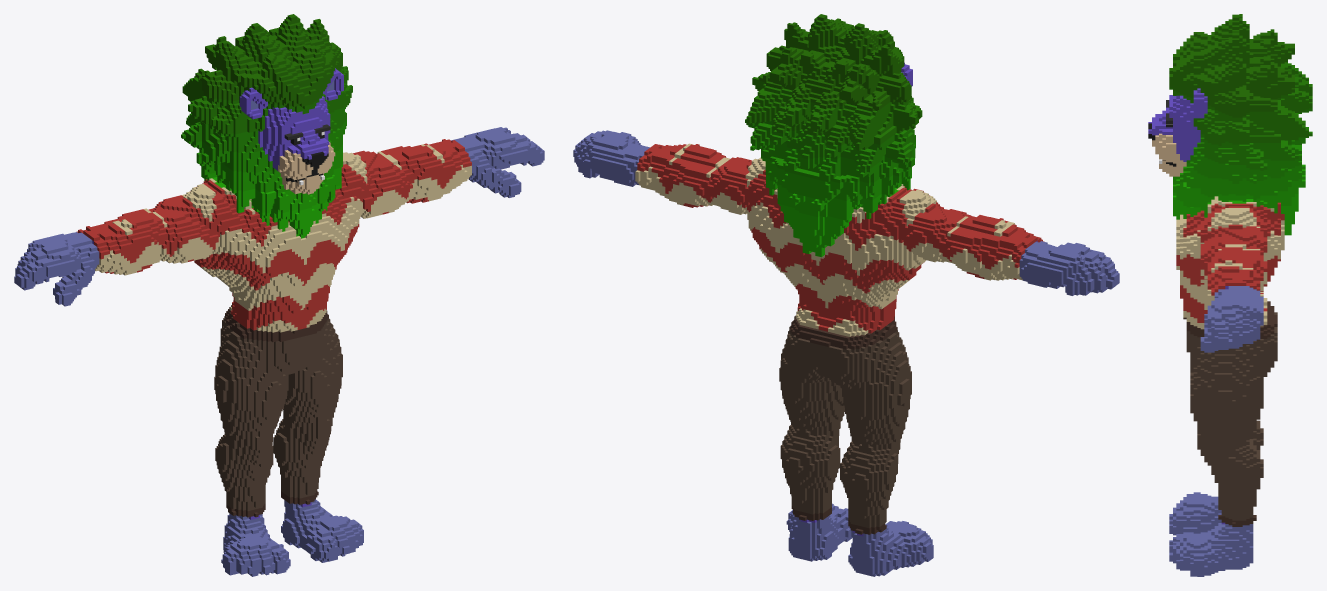
File: 199-wR76lBAd.fbx
3 renders of one model, left to right at view 1: azimuth 30°, elevation 25°; view 2: azimuth 150°, elevation 25°; view 3: azimuth 270°, elevation 25°, orthographic. The views are drawn at different scales.
Parts seen in each view (by area): view 1: standard; view 2: standard; view 3: standard.
Boxes of the visible parts, x1=… form: standard: x1=14, y1=14, x2=544, y2=576; standard: x1=573, y1=14, x2=1119, y2=576; standard: x1=1148, y1=14, x2=1312, y2=576.
Size of the model in its own units: 17.2 by 16.5 by 4.7.
5 materials, 5 textured.
